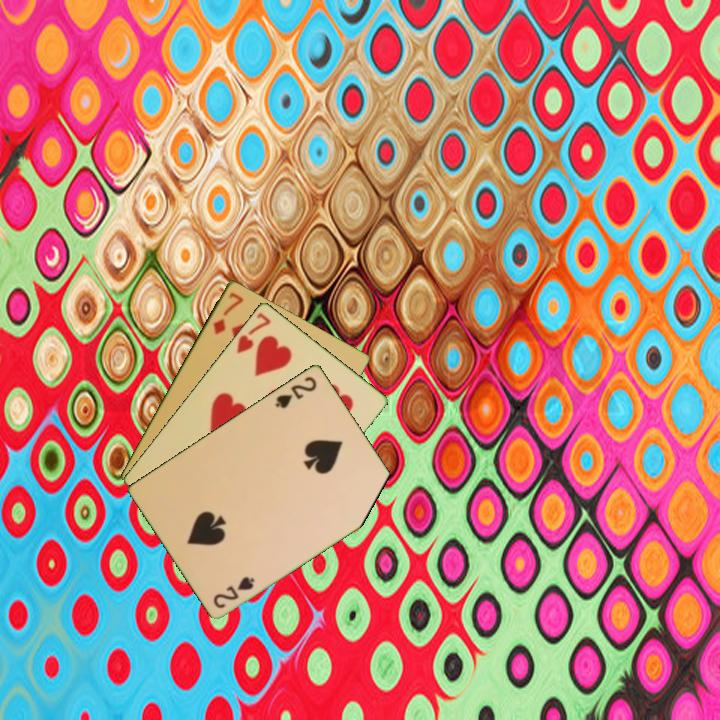2s: (271, 372, 320, 411), (210, 572, 257, 611)
7d: (209, 288, 246, 337)
7h: (233, 309, 274, 356)
